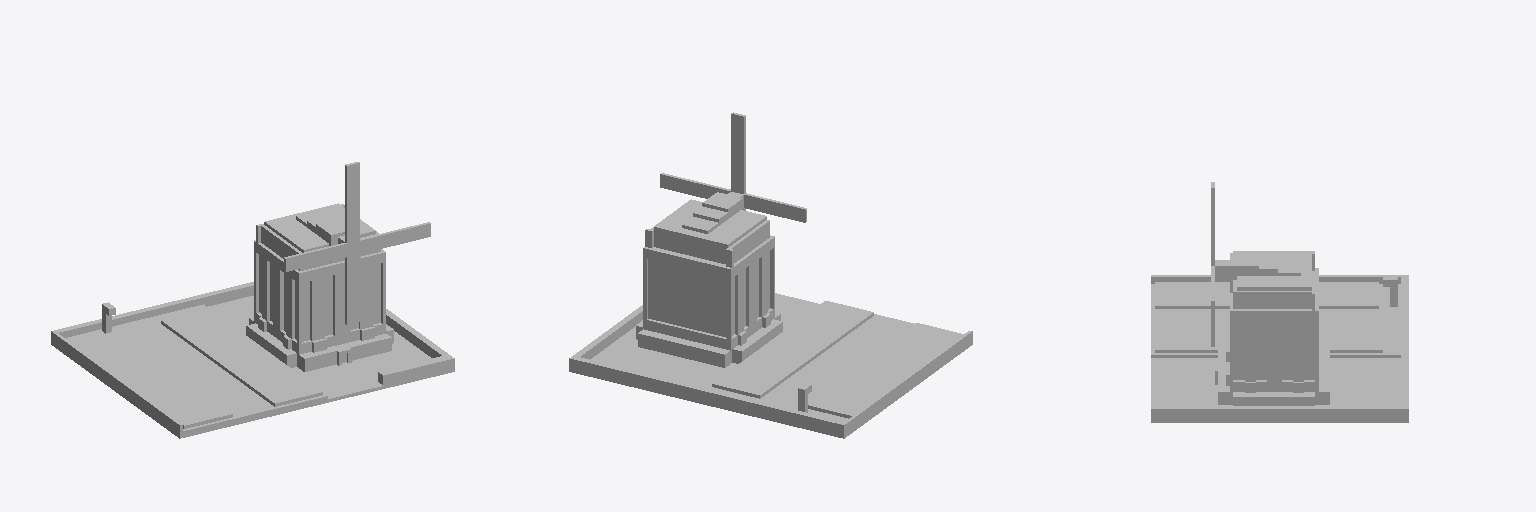
Rendered from windmill t3.obj.
3 views of the same model, side by side, from view 1: azimuth 30°, elevation 25°; view 2: azimuth 150°, elevation 25°; view 3: azimuth 270°, elevation 25° (orthographic).
Visible parts, largest first — view 1: object 1; view 2: object 1; view 3: object 1.
Boxes of the visible parts, <box> form: object 1: <box>51,162,454,438</box>; object 1: <box>569,112,972,438</box>; object 1: <box>1151,182,1408,422</box>.
Size of the model in its own units: 8.7 by 6 by 6.9.